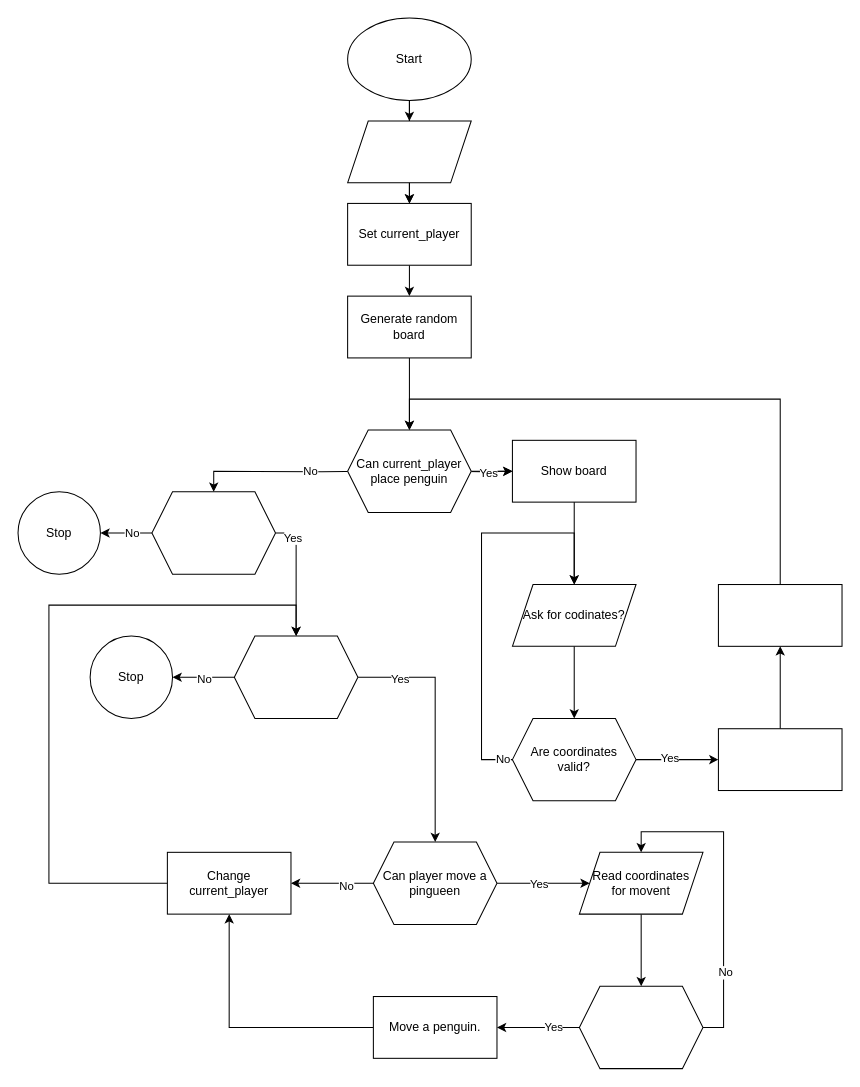
Image size: 860x1087. Some labels were removed from this diagram. Here are the shapes that lost their labels. From the top down, the centre of each, then its label:
point (409, 151): Read border dimensions m,n
point (213, 532): Is every penguin placed
point (779, 614): Change curren_player
point (295, 676): Can any pingueen be moved
point (779, 759): Place a pengueen
point (640, 1027): Is a valid move
